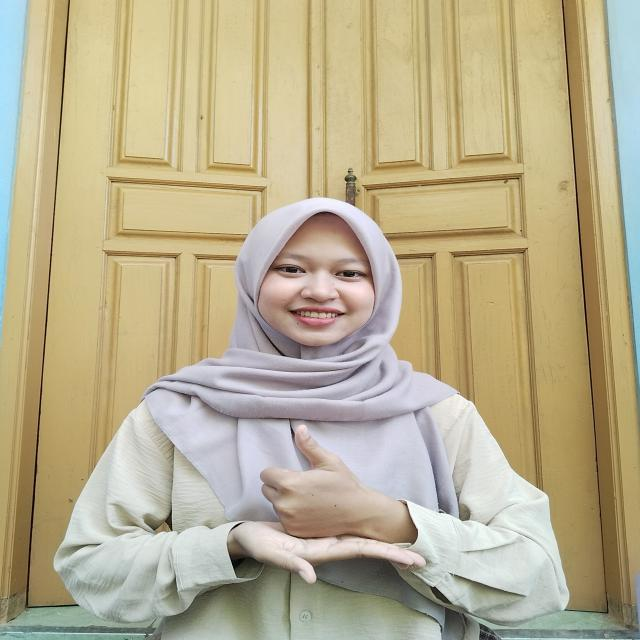cantik: (206, 415, 446, 587)
